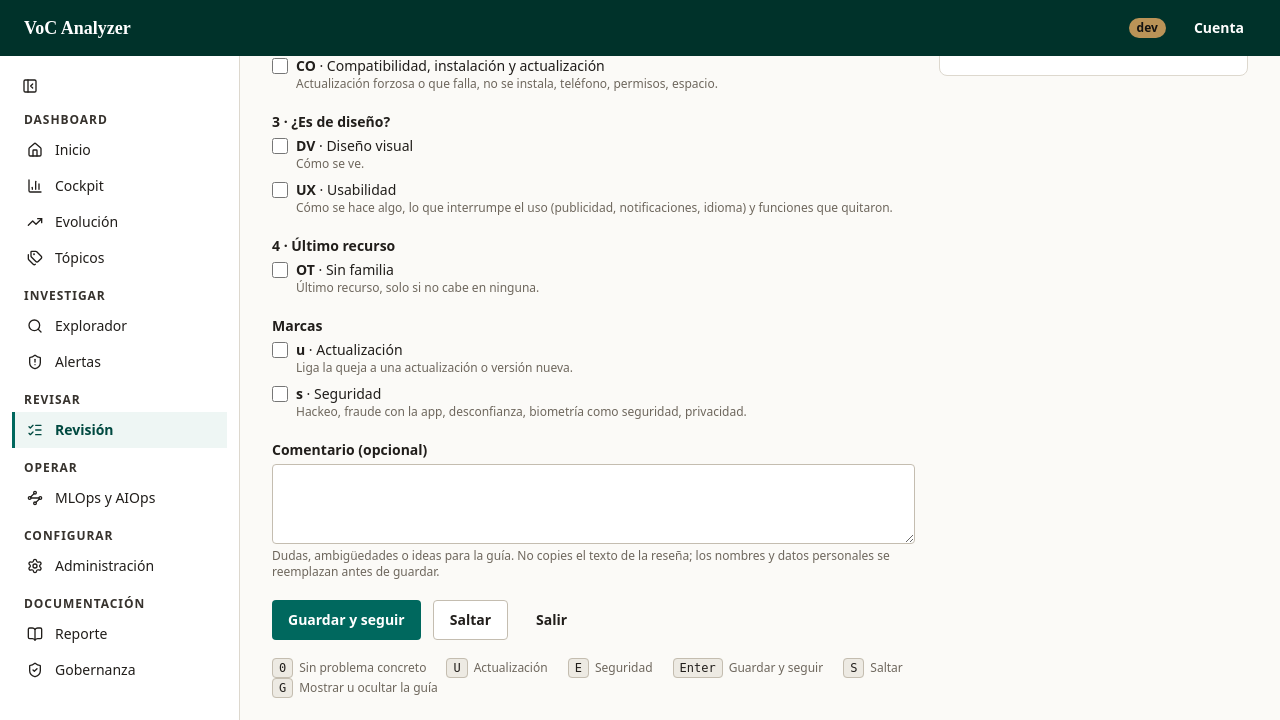
Scenario: revisión de aspectos › pide familias o «Sin problema concreto», no ambas ni ninguna
(page scrolled)
Step 1. Click the button "Guardar y seguir" → (346, 620), box [272,600,421,640]
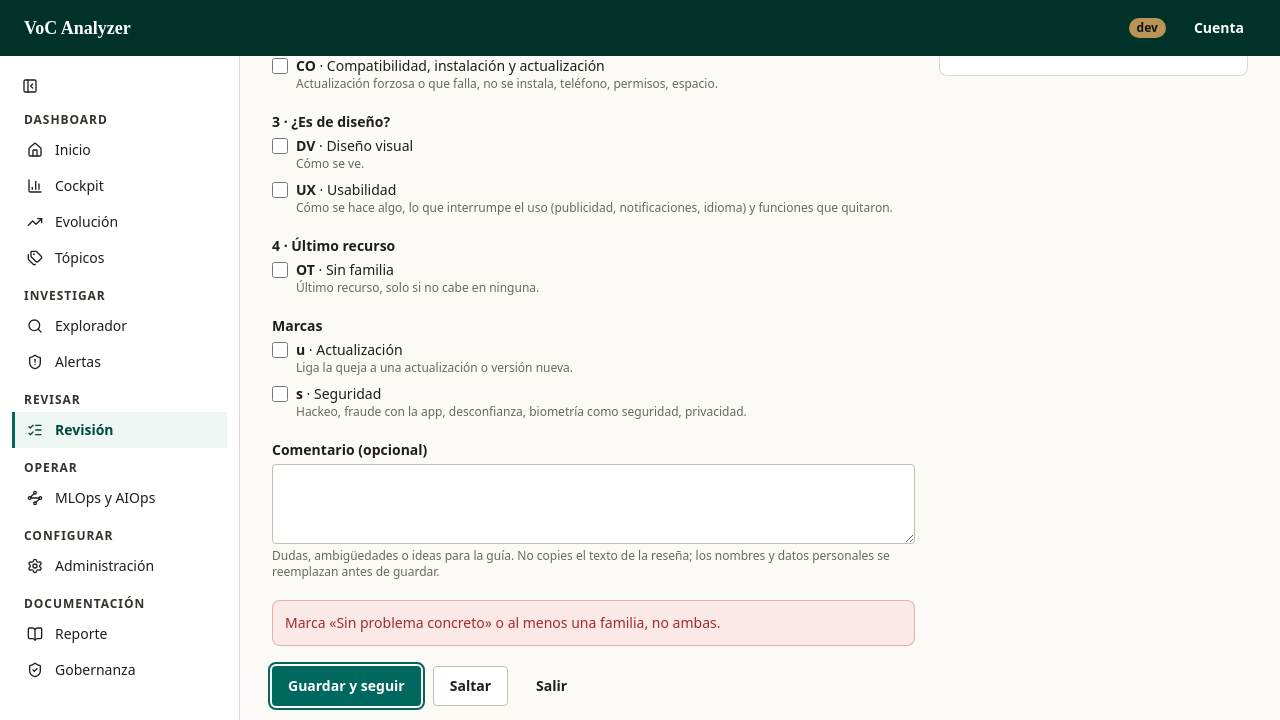
Result: the message shows "Marca «Sin problema concreto» o al menos una familia" at [285,613,720,632]
